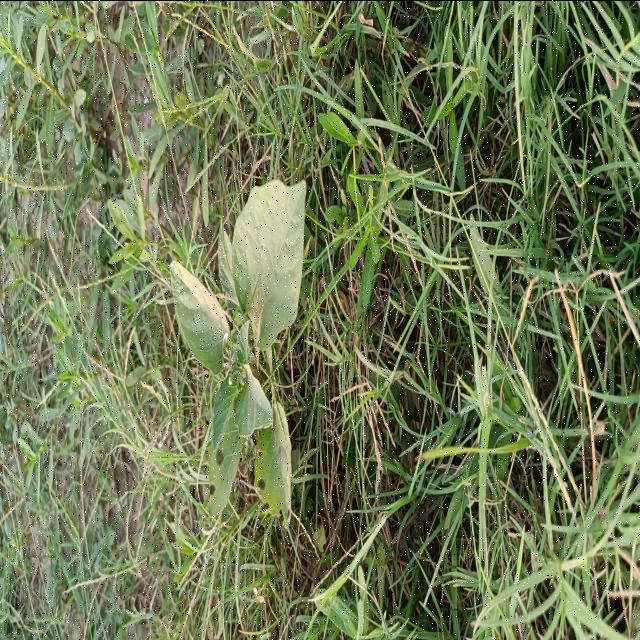plant: (170, 179, 305, 515)
